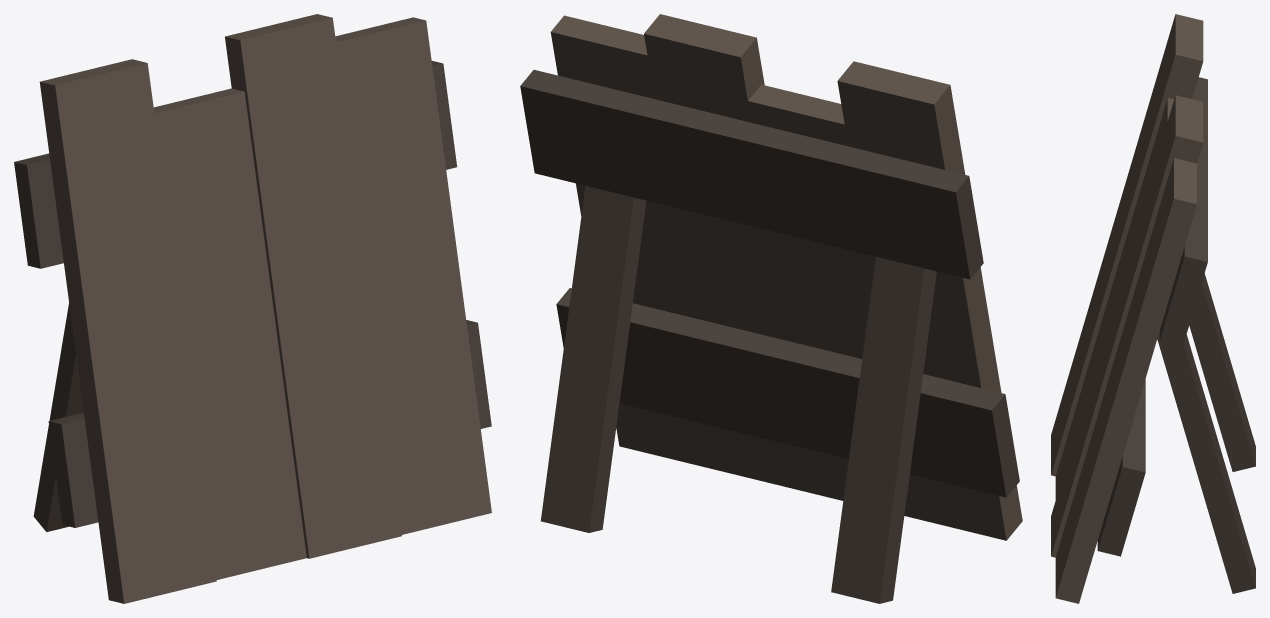
Rendered from Barricade.fbx.
3 renders of one model, left to right at view 1: azimuth 30°, elevation 25°; view 2: azimuth 150°, elevation 25°; view 3: azimuth 270°, elevation 25°, orthographic. The views are drawn at different scales.
Visible parts, largest first — view 1: Barricade; view 2: Barricade; view 3: Barricade.
Part boxes in pixels (<box>): Barricade: <box>14,14,491,603</box>; Barricade: <box>520,14,1022,603</box>; Barricade: <box>1051,14,1255,603</box>.
Size of the model in its own units: 180 by 196 by 85.2.
